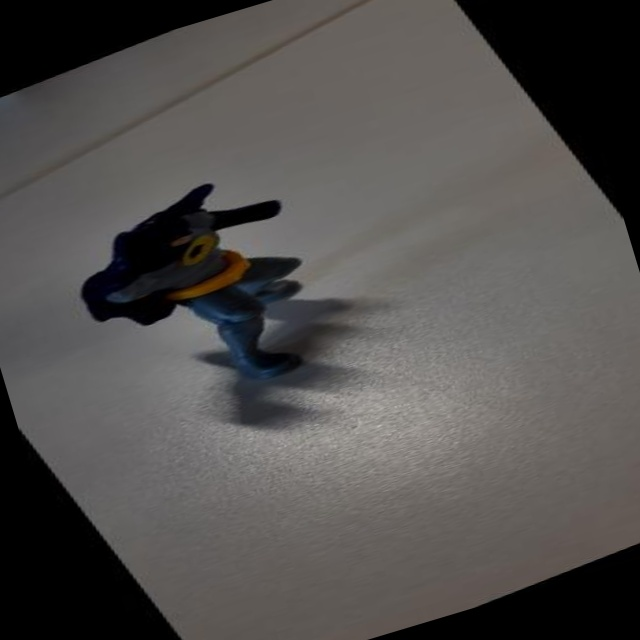Batman: (0, 114, 449, 483)
